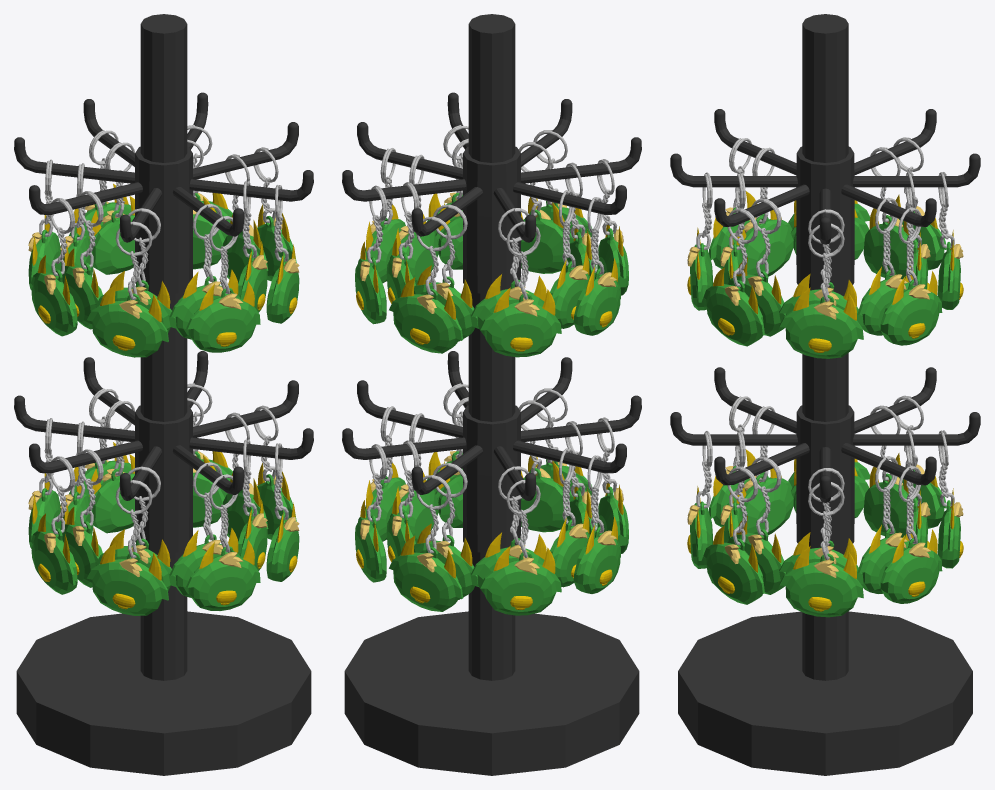
The model's file is KeychainGroup.fbx.
The picture shows the model from 3 angles, left to right: view 1: azimuth 30°, elevation 25°; view 2: azimuth 150°, elevation 25°; view 3: azimuth 270°, elevation 25°; orthographic projection.
Parts seen in each view (by area): view 1: Keychain_Holder_Base1, Keychain_Holder_Hook2, Keychain_Holder_Hook1, Keychain_Upper15, Keychain_Lower15, Keychain_Lower1, Keychain_Upper1, Keychain_Lower13, Keychain_Upper13, Keychain_Lower10, Keychain_Upper10, Keychain_Lower14 (+23 smaller); view 2: Keychain_Holder_Base1, Keychain_Holder_Hook2, Keychain_Holder_Hook1, Keychain_Upper11, Keychain_Lower11, Keychain_Upper9, Keychain_Lower9, Keychain_Upper13, Keychain_Lower13, Keychain_Upper2, Keychain_Lower2, Keychain_Lower7 (+23 smaller); view 3: Keychain_Holder_Base1, Keychain_Holder_Hook2, Keychain_Holder_Hook1, Keychain_Lower5, Keychain_Upper5, Keychain_Lower7, Keychain_Upper7, Keychain_Lower3, Keychain_Upper3, Keychain_Lower16, Keychain_Upper16, Keychain_Upper8 (+21 smaller).
Part boxes in pixels (<box>): Keychain_Holder_Base1: <box>16,14,311,775</box>; Keychain_Holder_Hook2: <box>14,351,313,500</box>; Keychain_Holder_Hook1: <box>14,92,313,242</box>; Keychain_Upper15: <box>87,221,168,357</box>; Keychain_Lower15: <box>87,480,168,615</box>; Keychain_Lower1: <box>186,474,260,610</box>; Keychain_Upper1: <box>186,216,260,352</box>; Keychain_Lower13: <box>31,456,77,594</box>; Keychain_Upper13: <box>31,198,77,336</box>; Keychain_Lower10: <box>89,400,134,533</box>; Keychain_Upper10: <box>89,142,134,274</box>; Keychain_Lower14: <box>61,449,103,587</box>; Keychain_Holder_Base1: <box>344,14,639,775</box>; Keychain_Holder_Hook2: <box>342,351,641,500</box>; Keychain_Holder_Hook1: <box>342,92,641,242</box>; Keychain_Upper11: <box>480,221,561,357</box>; Keychain_Lower11: <box>479,480,561,615</box>; Keychain_Upper9: <box>389,216,463,353</box>; Keychain_Lower9: <box>389,475,462,611</box>; Keychain_Upper13: <box>573,197,620,335</box>; Keychain_Lower13: <box>573,455,620,593</box>; Keychain_Upper2: <box>518,142,573,273</box>; Keychain_Lower2: <box>518,400,573,532</box>; Keychain_Lower7: <box>355,444,387,582</box>; Keychain_Holder_Base1: <box>678,14,972,775</box>; Keychain_Holder_Hook2: <box>670,367,980,502</box>; Keychain_Holder_Hook1: <box>670,109,980,244</box>; Keychain_Lower5: <box>779,482,863,617</box>; Keychain_Upper5: <box>779,223,863,358</box>; Keychain_Lower7: <box>880,466,942,603</box>; Keychain_Upper7: <box>880,207,942,345</box>; Keychain_Lower3: <box>703,467,764,604</box>; Keychain_Upper3: <box>703,208,764,346</box>; Keychain_Lower16: <box>736,406,793,536</box>; Keychain_Upper16: <box>736,147,793,278</box>; Keychain_Upper8: <box>857,197,913,335</box>.
Bounding box in the file's own units: 8.87 × 21.75 × 8.87.
